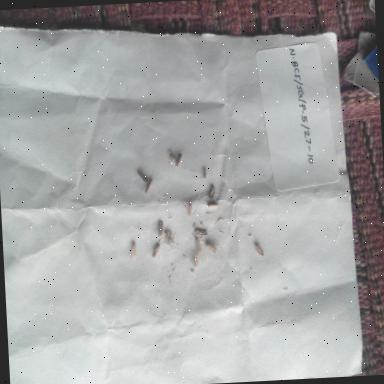pbw: (143, 174, 155, 194), (253, 242, 267, 259), (136, 167, 150, 184), (205, 198, 221, 212), (166, 148, 177, 168), (186, 202, 196, 222), (154, 220, 164, 240), (201, 163, 210, 184), (173, 149, 183, 167), (194, 226, 209, 238), (193, 252, 202, 271), (206, 241, 218, 255), (207, 183, 216, 199), (130, 240, 137, 260), (152, 242, 160, 258), (194, 236, 202, 252)
